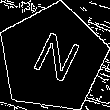N_SW: (23, 27, 82, 90)
